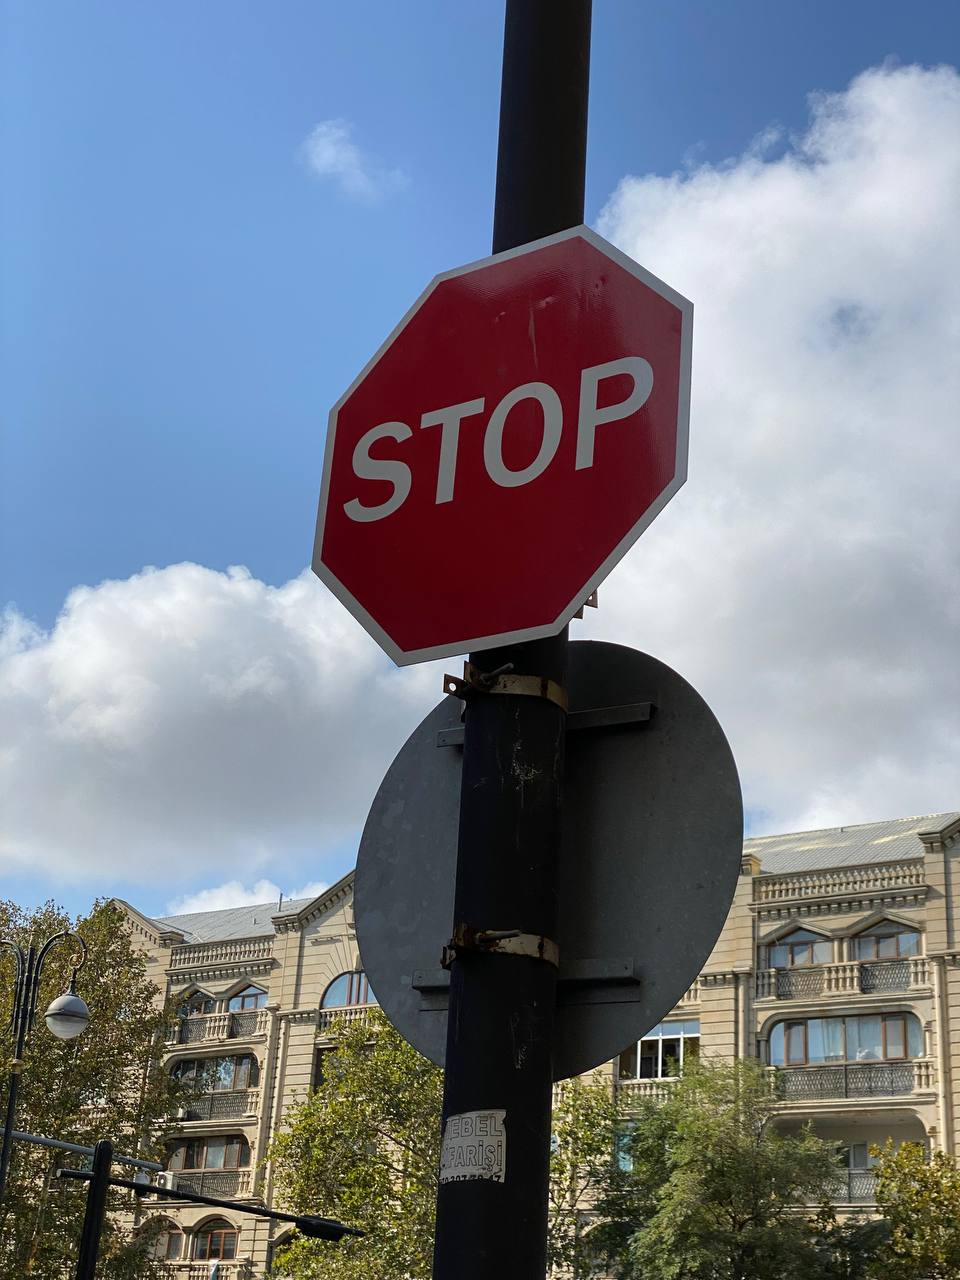STOP: (311, 224, 694, 668)
